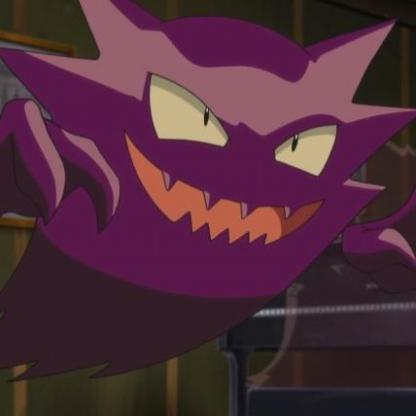Haunter: (1, 1, 416, 387)
